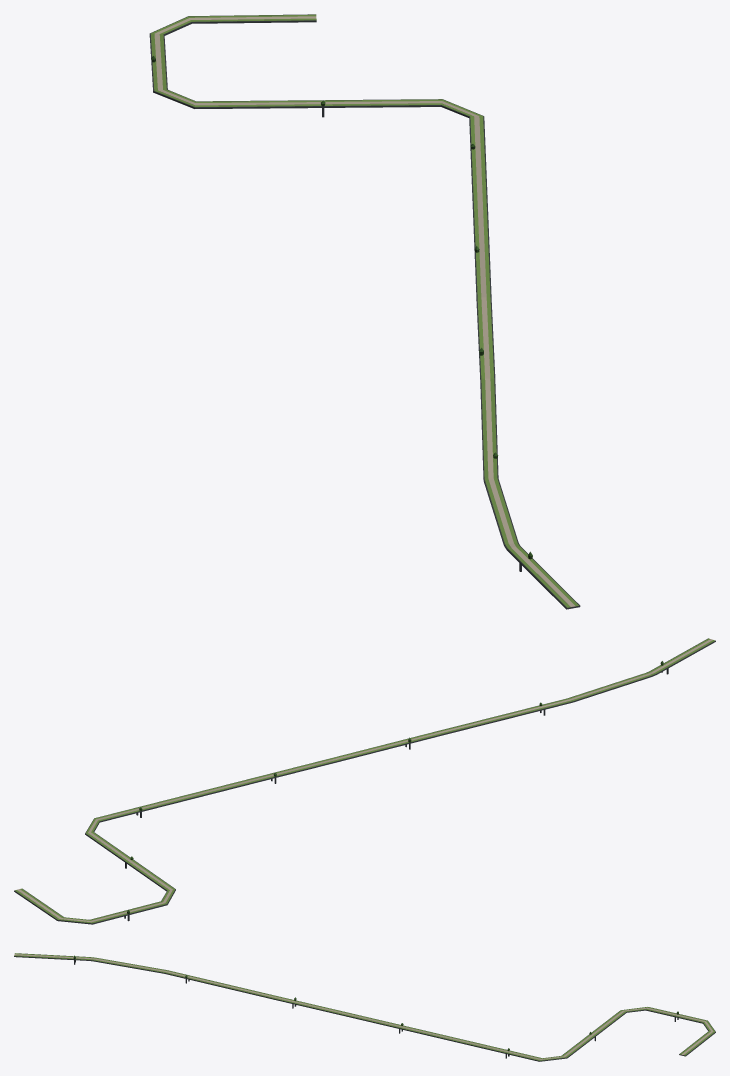
3 views of the same model, one above another, from view 1: azimuth 30°, elevation 25°; view 2: azimuth 150°, elevation 25°; view 3: azimuth 270°, elevation 25° (orthographic). The views are drawn at different scales.
Parts seen in each view (by area): view 1: high-line-lod3; view 2: high-line-lod3; view 3: high-line-lod3.
Boxes of the visible parts, left/top/right/bottom form: high-line-lod3: left=149, top=14, right=580, bottom=609; high-line-lod3: left=14, top=638, right=715, bottom=924; high-line-lod3: left=14, top=953, right=715, bottom=1061.
Size of the model in its own units: 673 by 27.1 by 1850.
